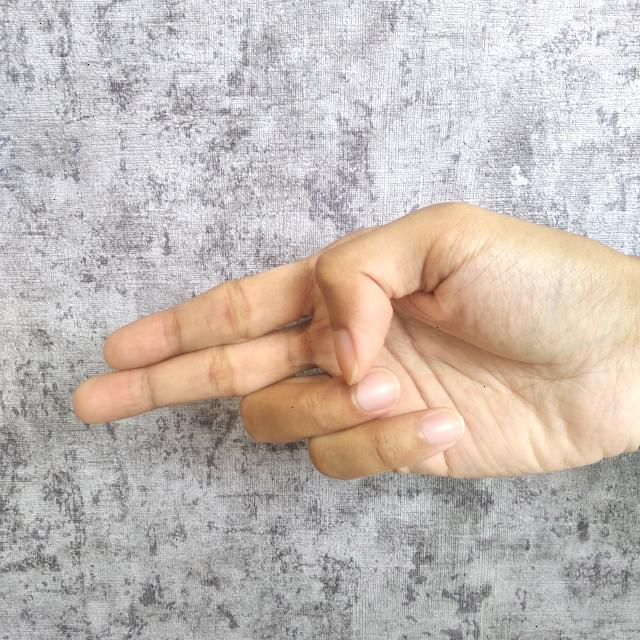H: (59, 193, 640, 495)
